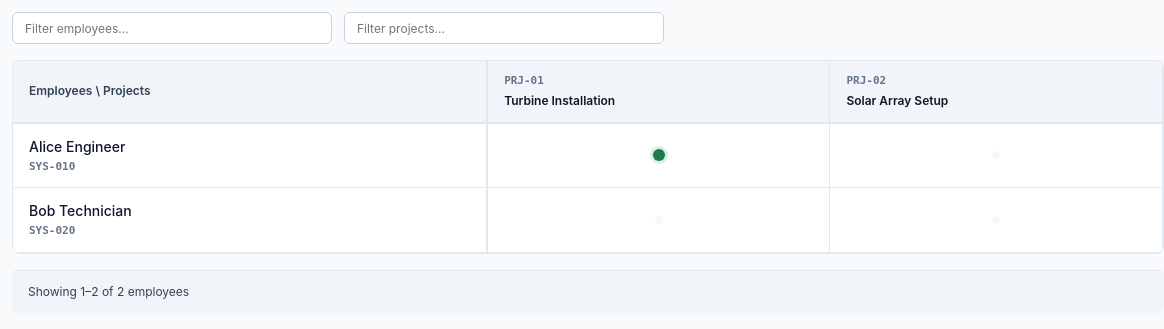
Test: AssignmentMatrix › filters columns by project search term
This screenshot has width=1164, height=329.
Type "Solar" into the field with test id "matrix-project-filter".
click(504, 28); type("Solar")  # box [344,12,664,44]
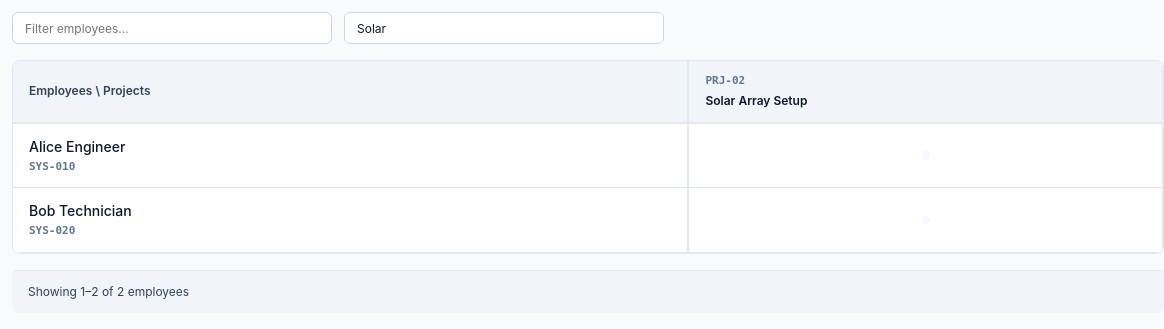
Check: the column heading with test id "matrix-col-102" is shown, box [690,61,1163,124]
Check: the column heading with test id "matrix-col-101" is gone
